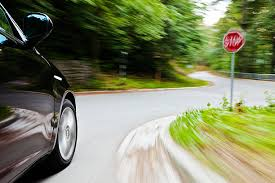stop sign: (222, 31, 245, 53)
